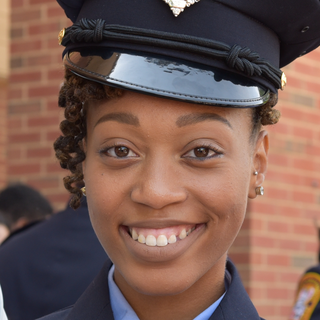eye: (174, 134, 235, 167), (91, 136, 144, 167)
